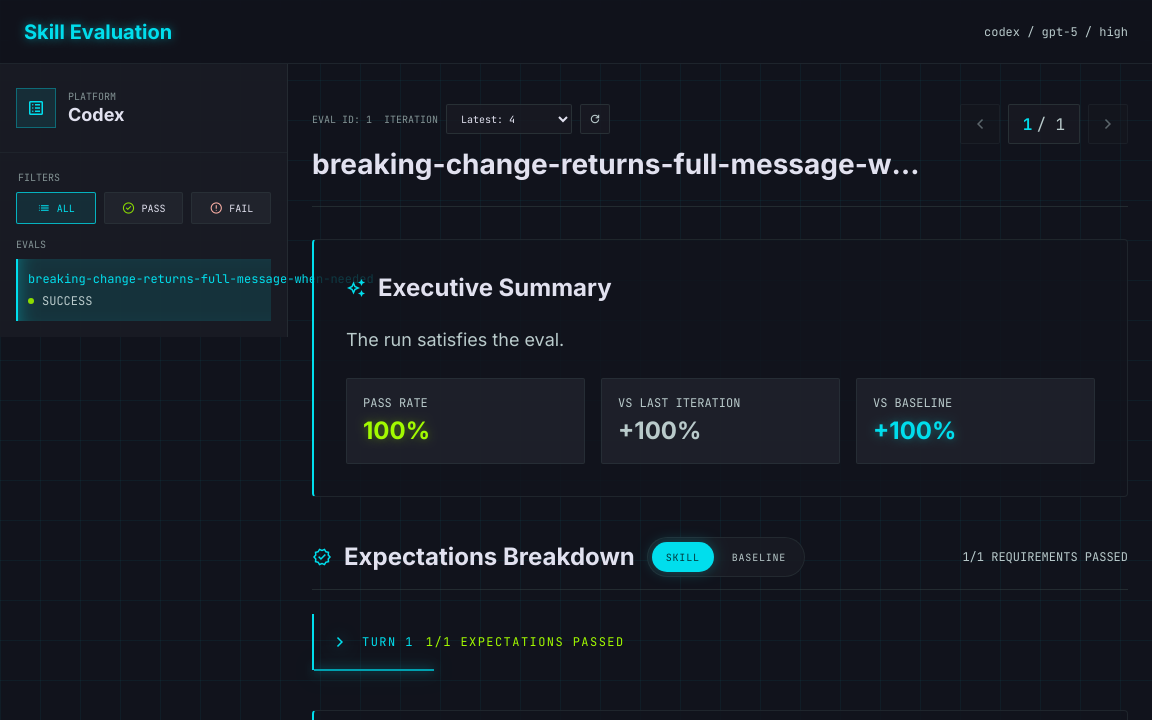
refreshes to a newer latest iteration when one exists
The width and height of the screenshot is (1152, 720).
Click the button named "check for newer iteration": (595, 119) [580,104,610,134]
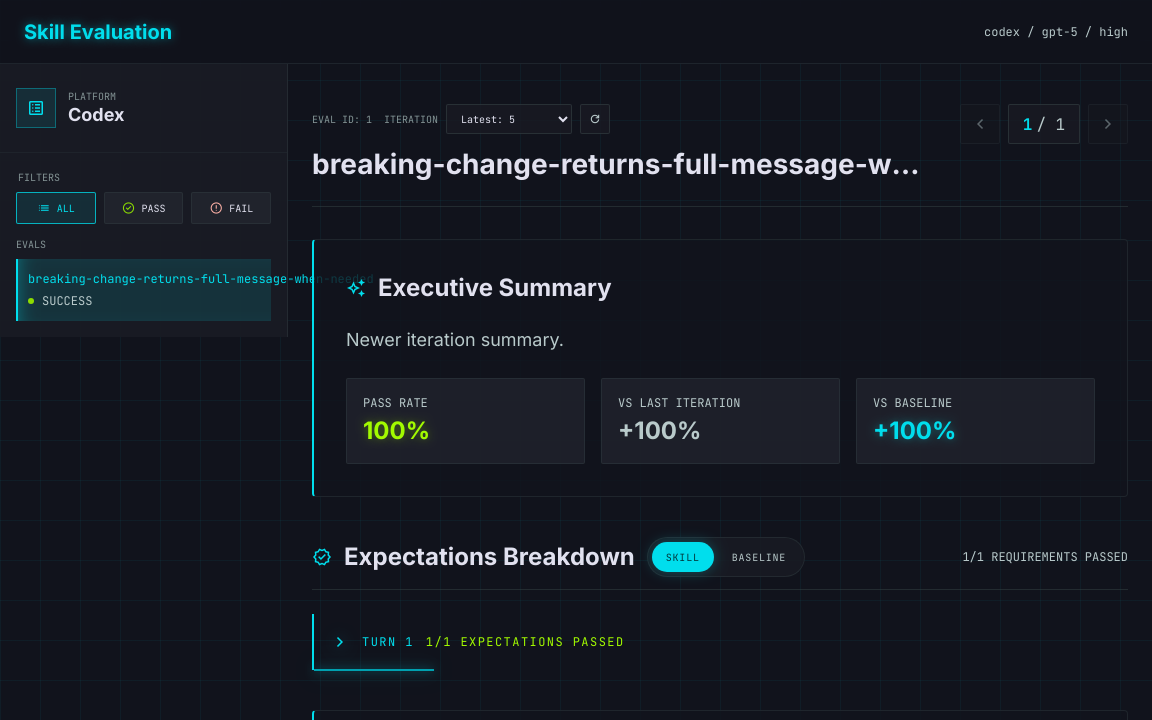
Expected: the text "Newer iteration summary." is shown, [346,329,564,350]
